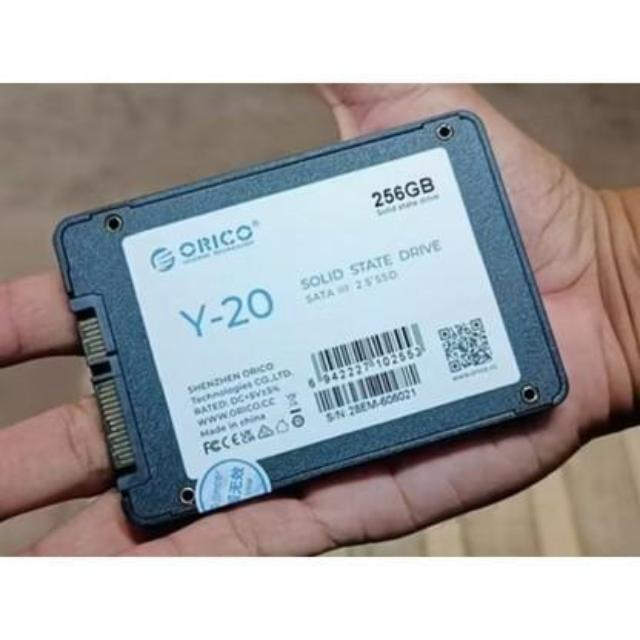DISK: (54, 110, 577, 532)
